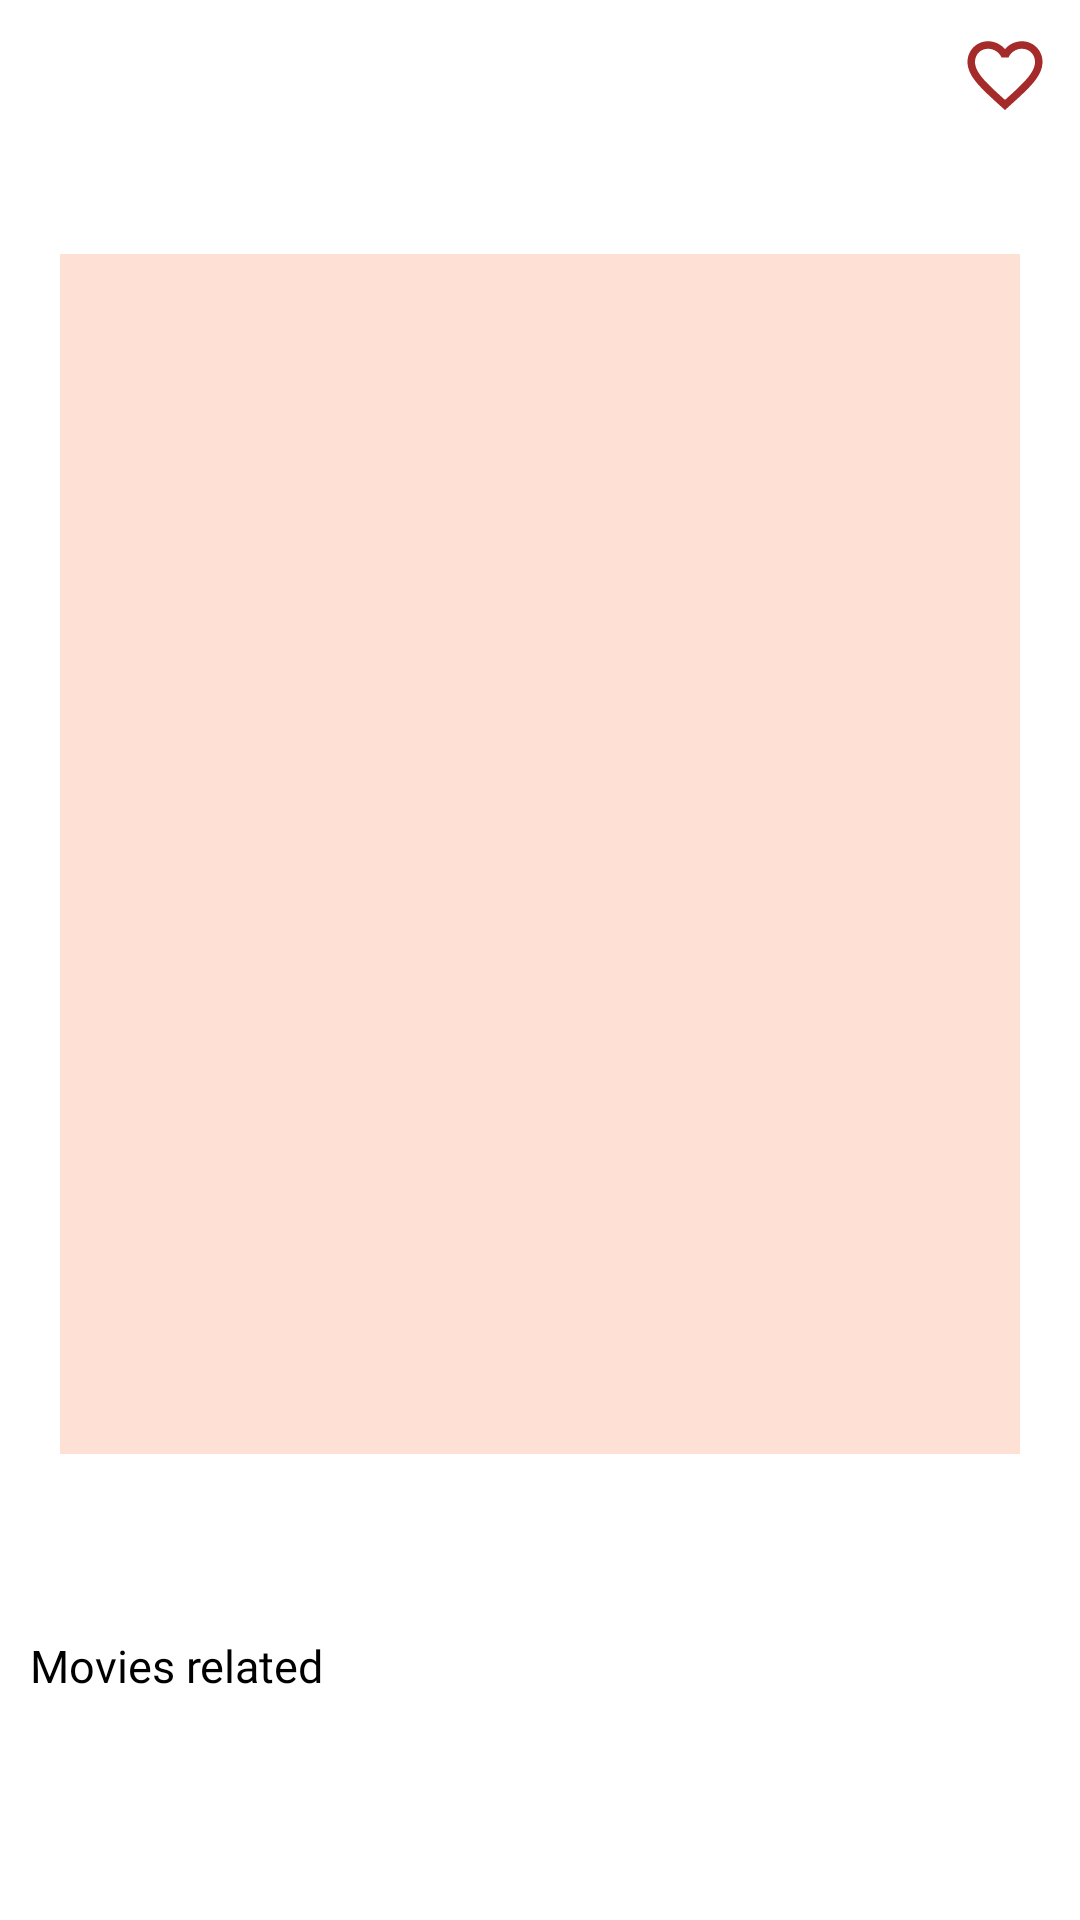

Named icons in this screenshot (1080*1920) and their centers, [x,y]:
favorite: [1005,75]
